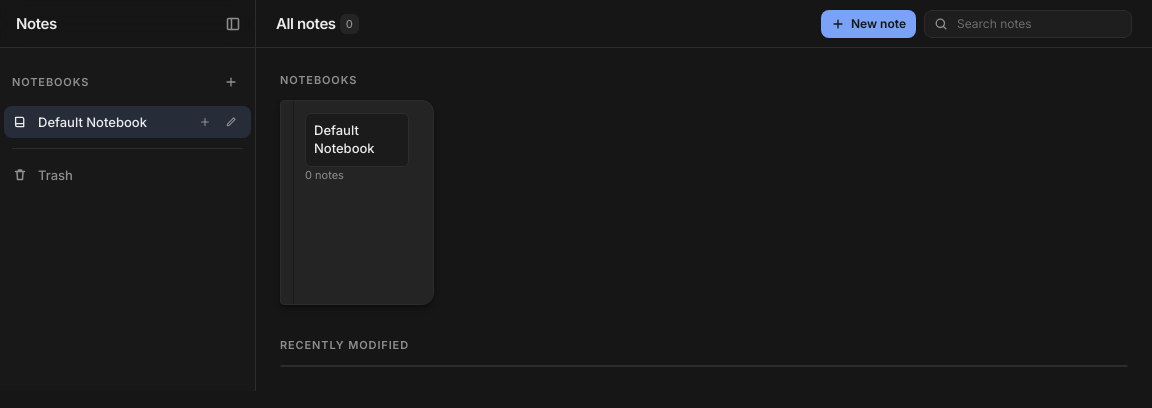
Test: NotesView, the notebook sidebar › offers a notebook inside a notebook from its context menu
Right-click the button "Default Notebook" at (86, 122), box x1=4 y1=106 x2=167 y2=138
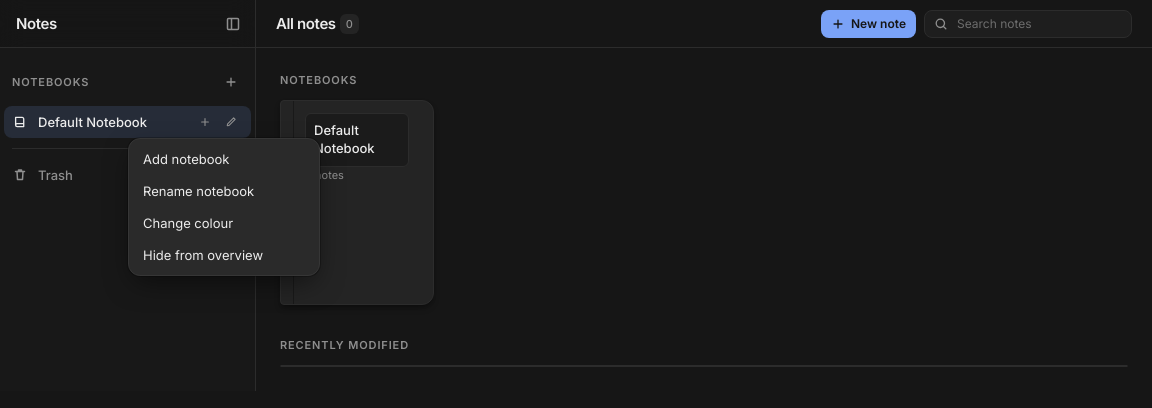
Result: the menu items read "Add notebook", "Rename notebook", "Change colour", "Hide from overview", in this order at x1=132 y1=143 x2=314 y2=175; x1=132 y1=175 x2=314 y2=207; x1=132 y1=207 x2=314 y2=239; x1=132 y1=239 x2=314 y2=271
